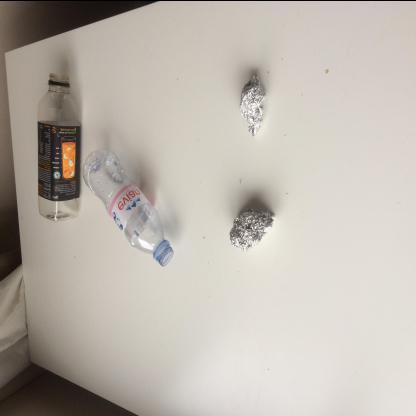metal: (229, 207, 277, 255), (240, 73, 269, 139)
plastik: (84, 148, 176, 267), (37, 73, 83, 223)
